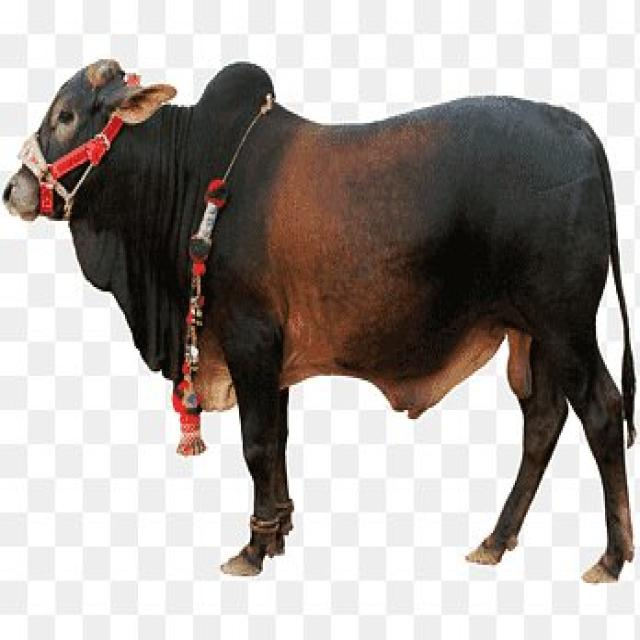Ox: (4, 42, 639, 594)
